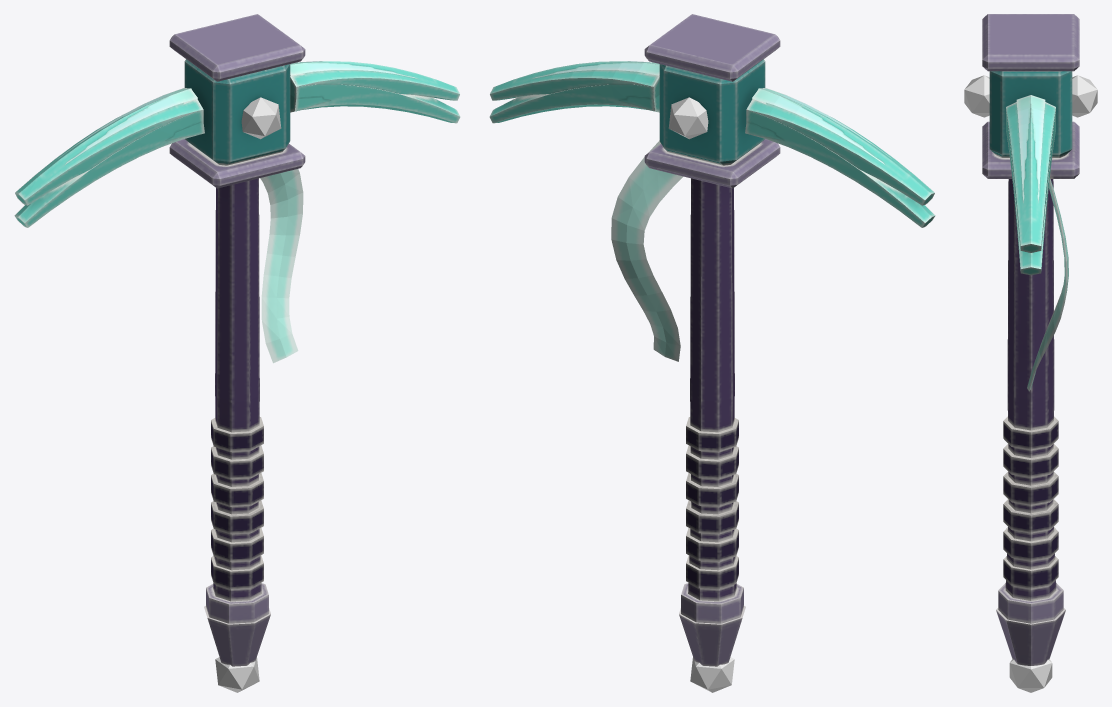
Rendered from SongcrystalPickaxe.glb.
The picture shows the model from 3 angles, left to right: view 1: azimuth 30°, elevation 25°; view 2: azimuth 150°, elevation 25°; view 3: azimuth 270°, elevation 25°; orthographic projection.
Parts seen in each view (by area): view 1: Body__Tex, Head__Gem; view 2: Body__Tex, Head__Gem; view 3: Body__Tex, Head__Gem.
Boxes of the visible parts, left/top/right/bottom form: Body__Tex: left=14, top=14, right=460, bottom=666; Head__Gem: left=215, top=97, right=281, bottom=692; Body__Tex: left=489, top=14, right=935, bottom=666; Head__Gem: left=668, top=97, right=734, bottom=692; Body__Tex: left=982, top=14, right=1079, bottom=665; Head__Gem: left=964, top=75, right=1097, bottom=692.
Size of the model in its own units: 2.84 by 4.04 by 0.7412.
1 material, 1 textured.
